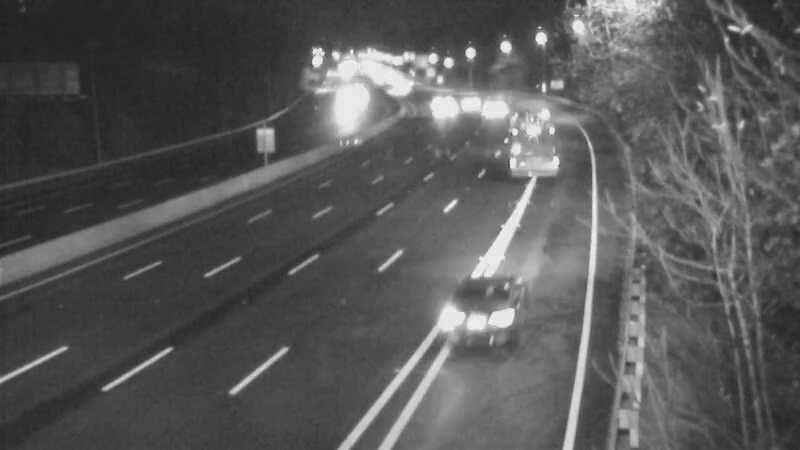vehicle: (420, 257, 530, 367), (368, 64, 418, 114), (447, 73, 497, 123), (414, 73, 464, 123), (419, 89, 469, 139), (467, 87, 517, 137), (513, 107, 563, 157), (318, 78, 368, 128)
